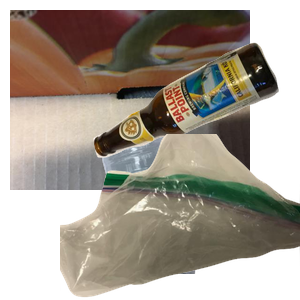cardboard: (10, 10, 250, 190)
glass: (91, 40, 300, 190)
plastic: (99, 120, 289, 300)
trash: (60, 134, 300, 300)
